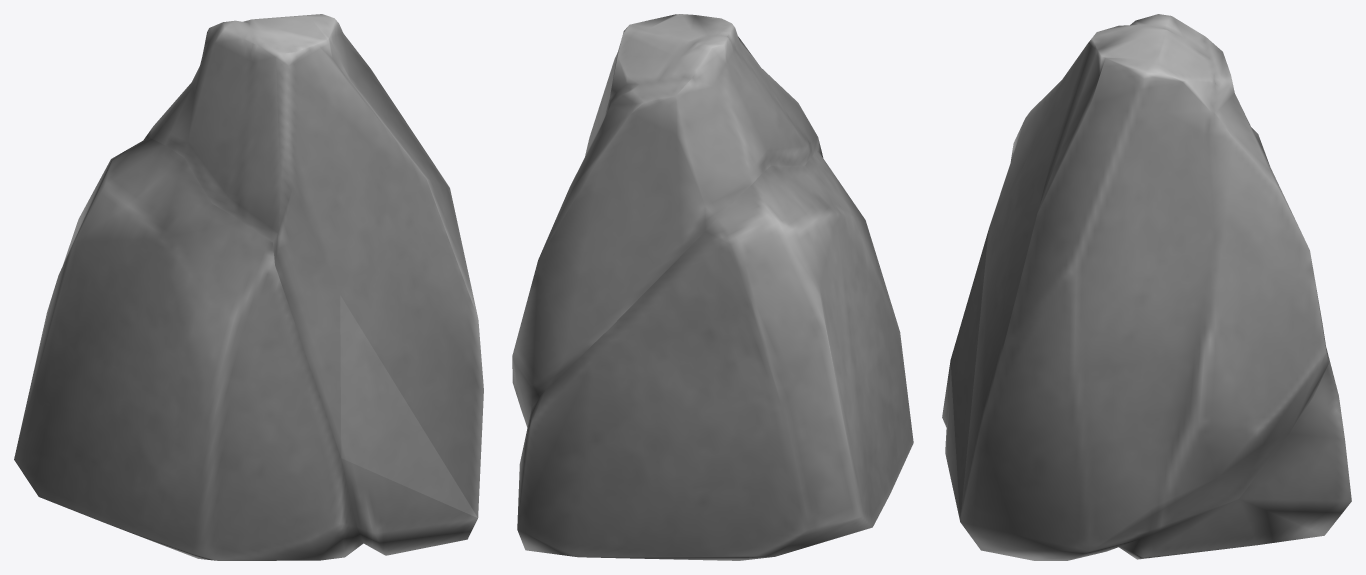
Rendered from SM_Rocks_05.obj.
3 renders of one model, left to right at view 1: azimuth 30°, elevation 25°; view 2: azimuth 150°, elevation 25°; view 3: azimuth 270°, elevation 25°, orthographic. The views are drawn at different scales.
Parts seen in each view (by area): view 1: SM_Rocks_05; view 2: SM_Rocks_05; view 3: SM_Rocks_05.
Part boxes in pixels (x1=…): SM_Rocks_05: x1=14, y1=14, x2=483, y2=560; SM_Rocks_05: x1=512, y1=14, x2=913, y2=560; SM_Rocks_05: x1=942, y1=14, x2=1351, y2=560.
Bounding box in the file's own units: 0.8974 × 1.14 × 0.9027.
1 material, 1 textured.
